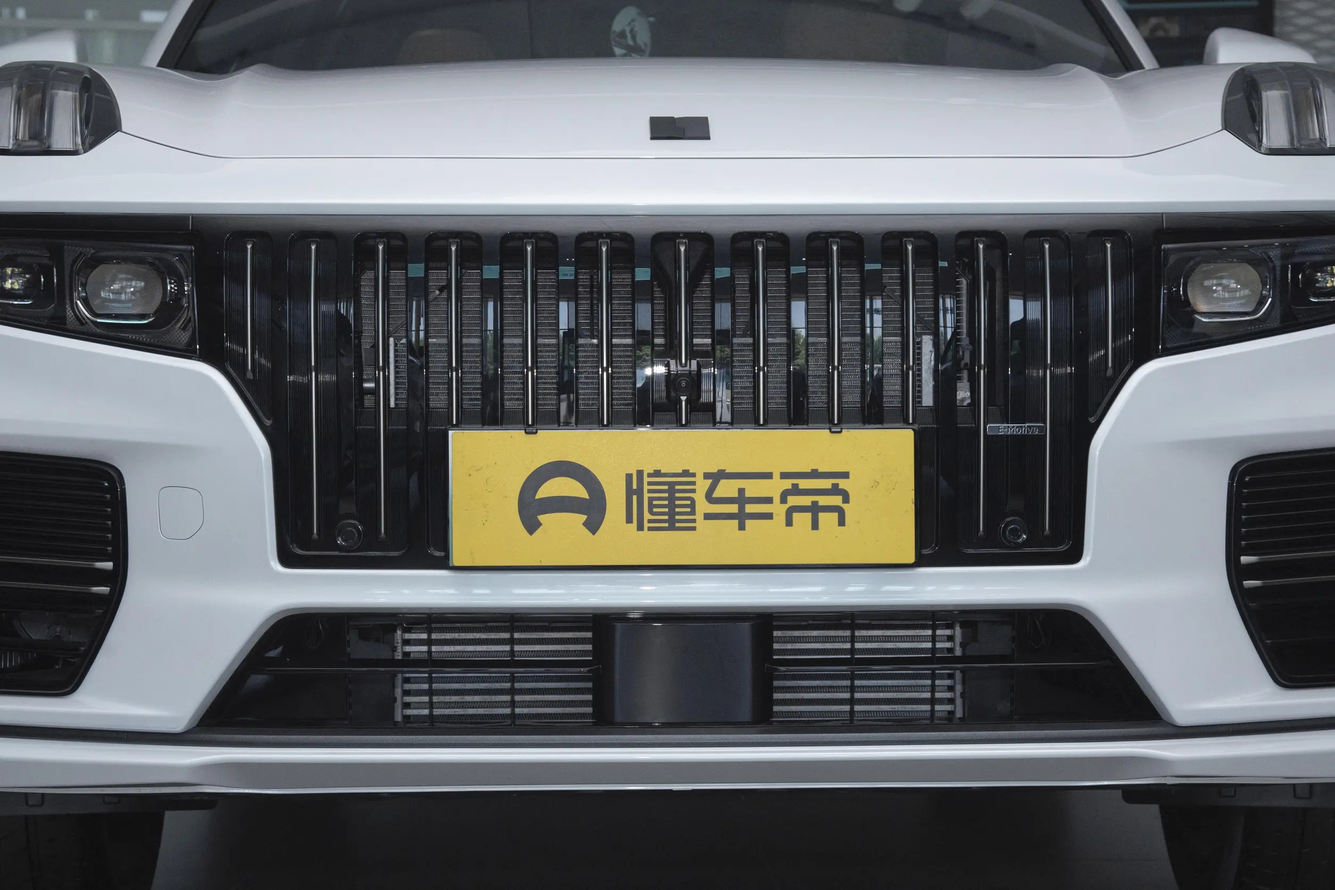LINK&CO: (650, 117, 709, 139)
